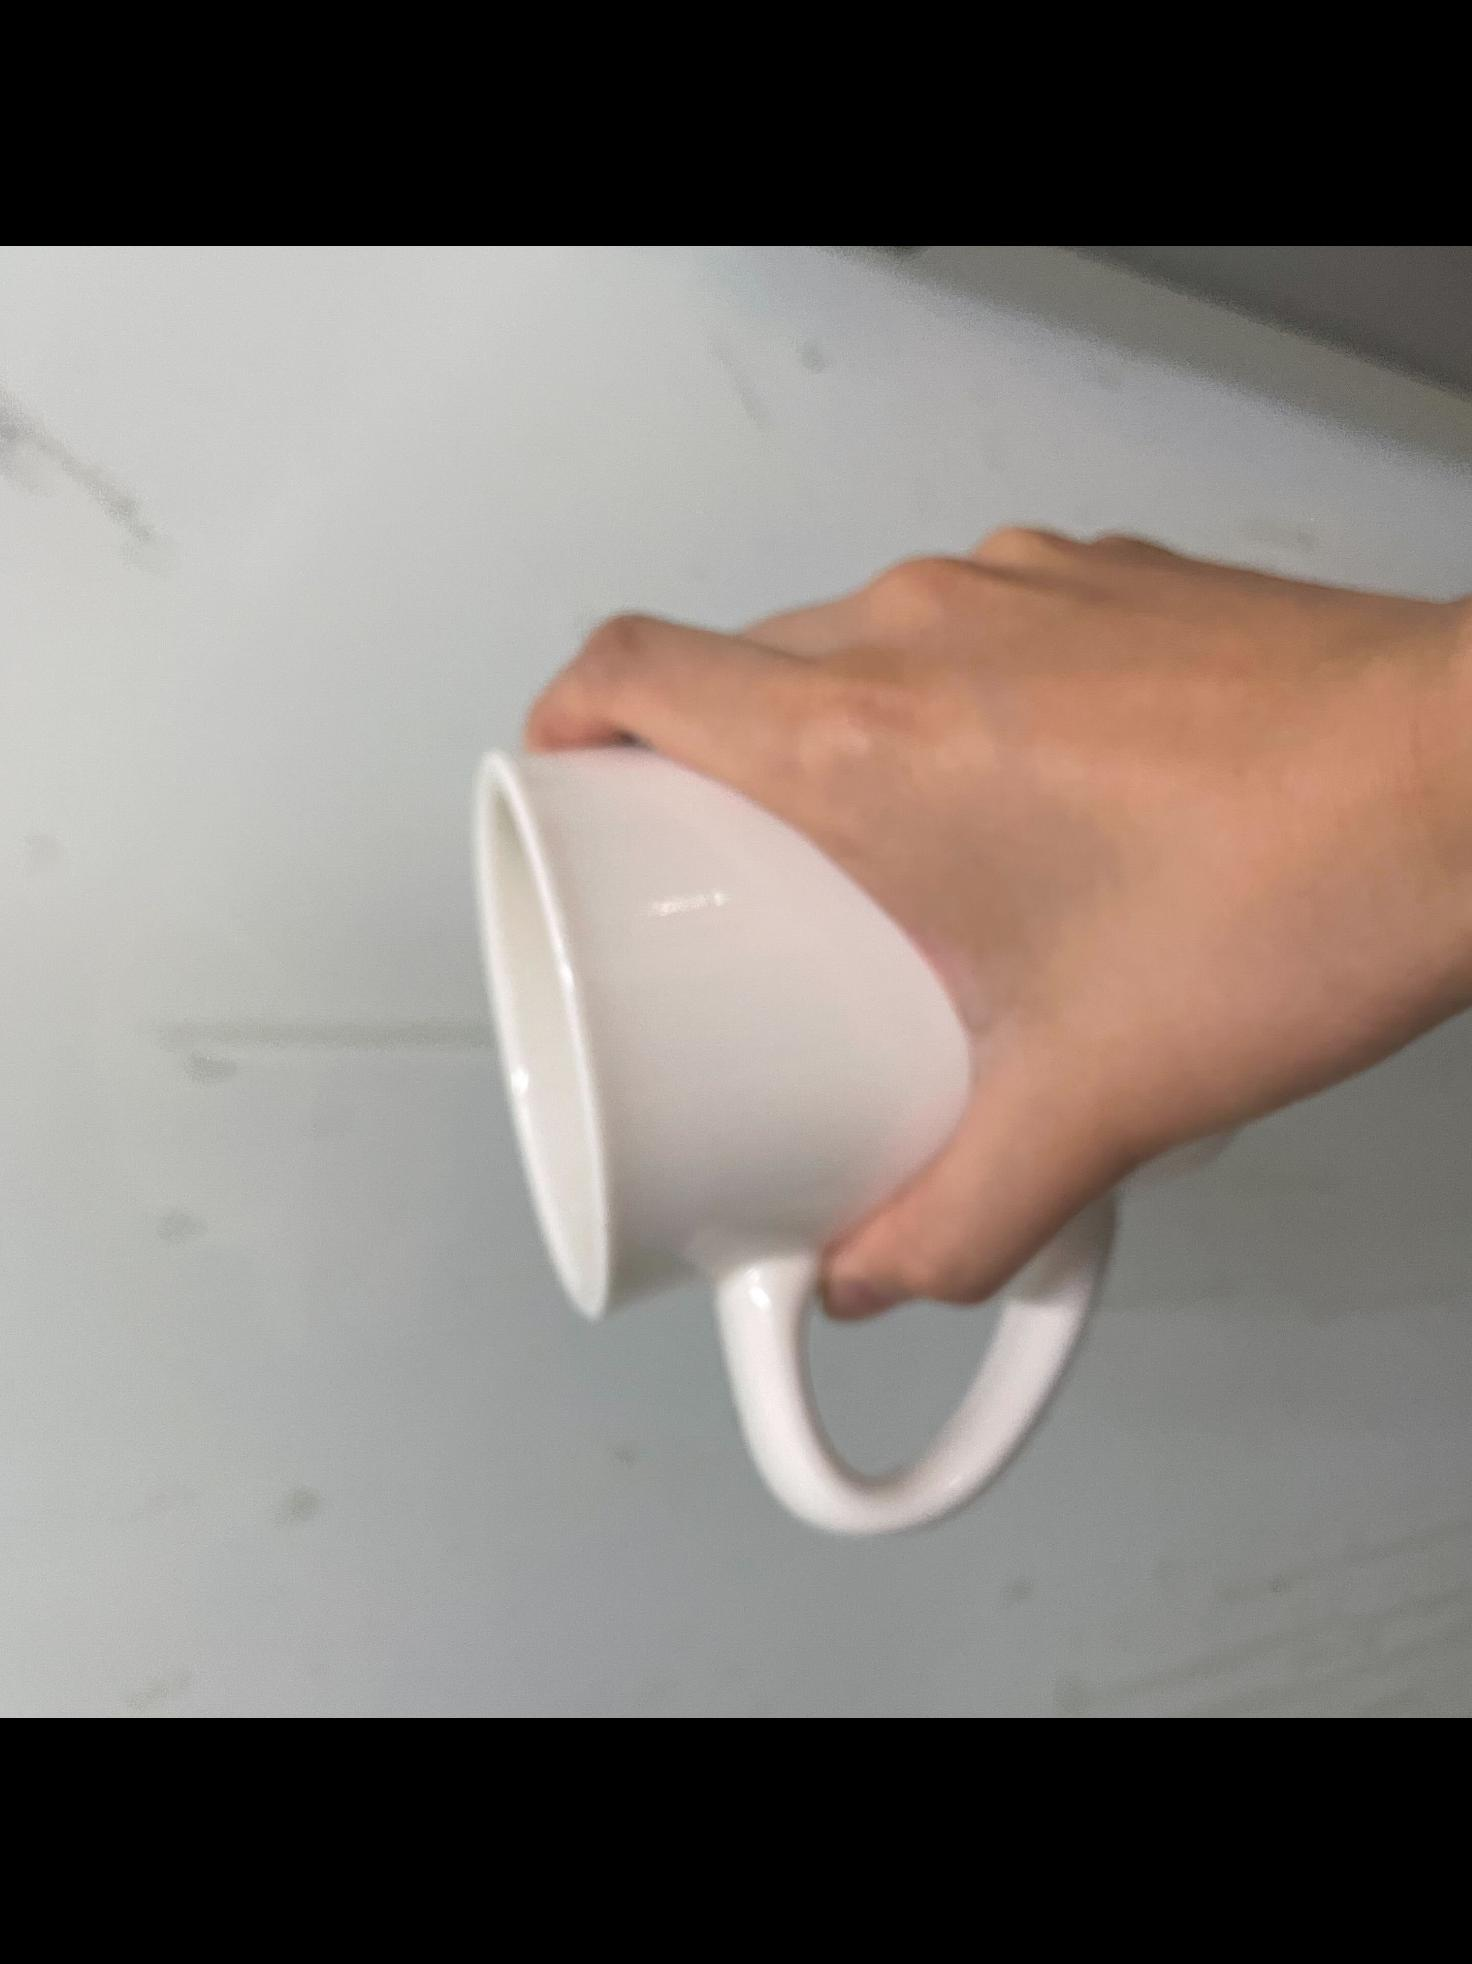cup: (448, 472, 1472, 1587)
